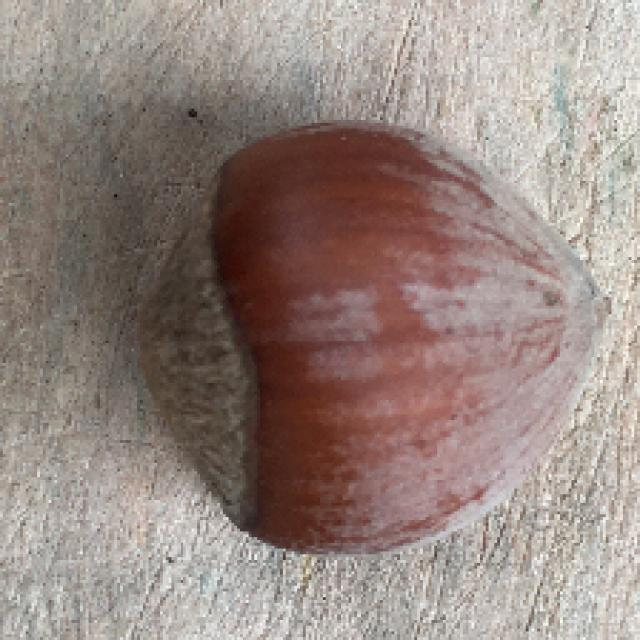qualityHazelnut: (128, 117, 621, 559)
